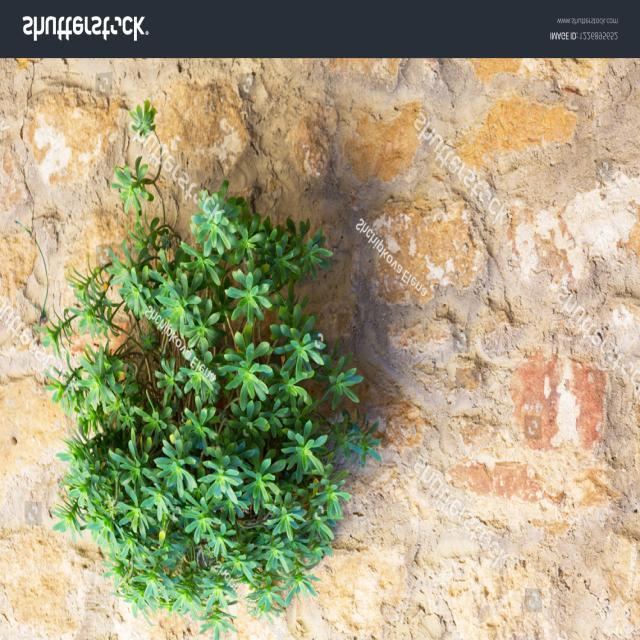Crack: (411, 112, 519, 326)
